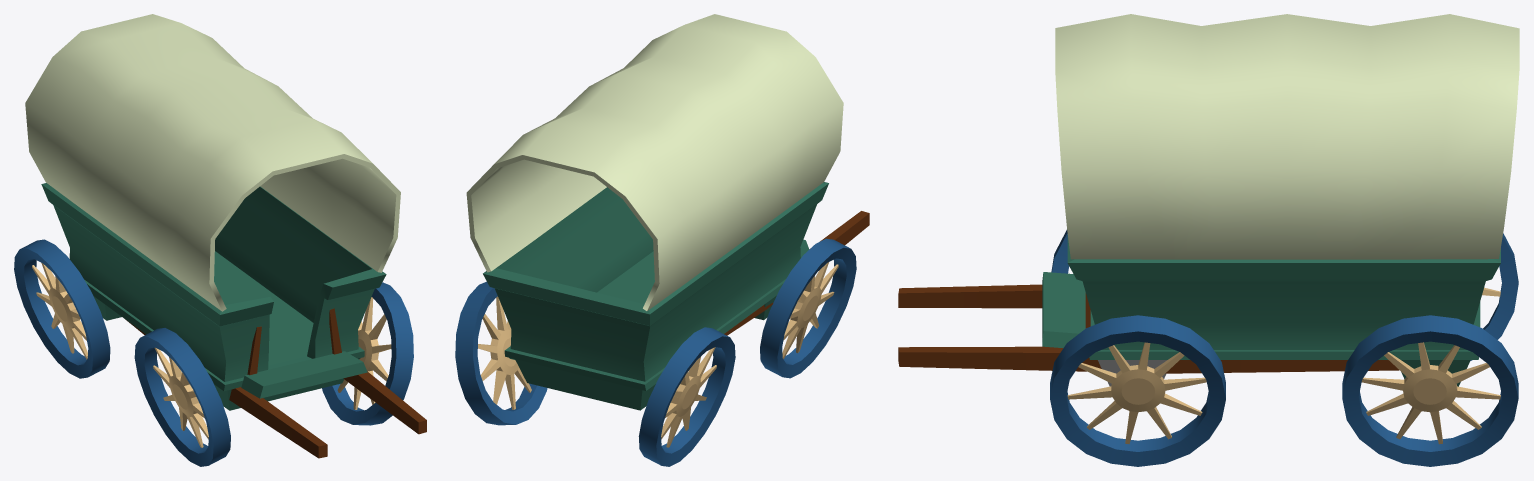
File: Environment_Cart_v01 (1).fbx
3 renders of one model, left to right at view 1: azimuth 30°, elevation 25°; view 2: azimuth 150°, elevation 25°; view 3: azimuth 270°, elevation 25°, orthographic. The views are drawn at different scales.
Parts seen in each view (by area): view 1: Cart, Wheel_Front_Axle_Cart, Axle_Rear_Cart, Wheel_Front_Cart; view 2: Cart, Axle_Rear_Cart, Wheel_Front_Axle_Cart; view 3: Cart, Axle_Rear_Cart, Wheel_Front_Cart.
Boxes of the visible parts, bbox=[...] form: Cart: bbox=[25, 14, 426, 458]; Wheel_Front_Axle_Cart: bbox=[134, 328, 360, 466]; Axle_Rear_Cart: bbox=[14, 239, 110, 378]; Wheel_Front_Cart: bbox=[322, 282, 413, 425]; Cart: bbox=[466, 14, 869, 410]; Axle_Rear_Cart: bbox=[455, 281, 735, 466]; Wheel_Front_Axle_Cart: bbox=[760, 238, 856, 378]; Cart: bbox=[898, 14, 1519, 386]; Axle_Rear_Cart: bbox=[1342, 233, 1518, 466]; Wheel_Front_Cart: bbox=[1050, 315, 1225, 466].
Bounding box in the file's own units: 254 × 329 × 484.
